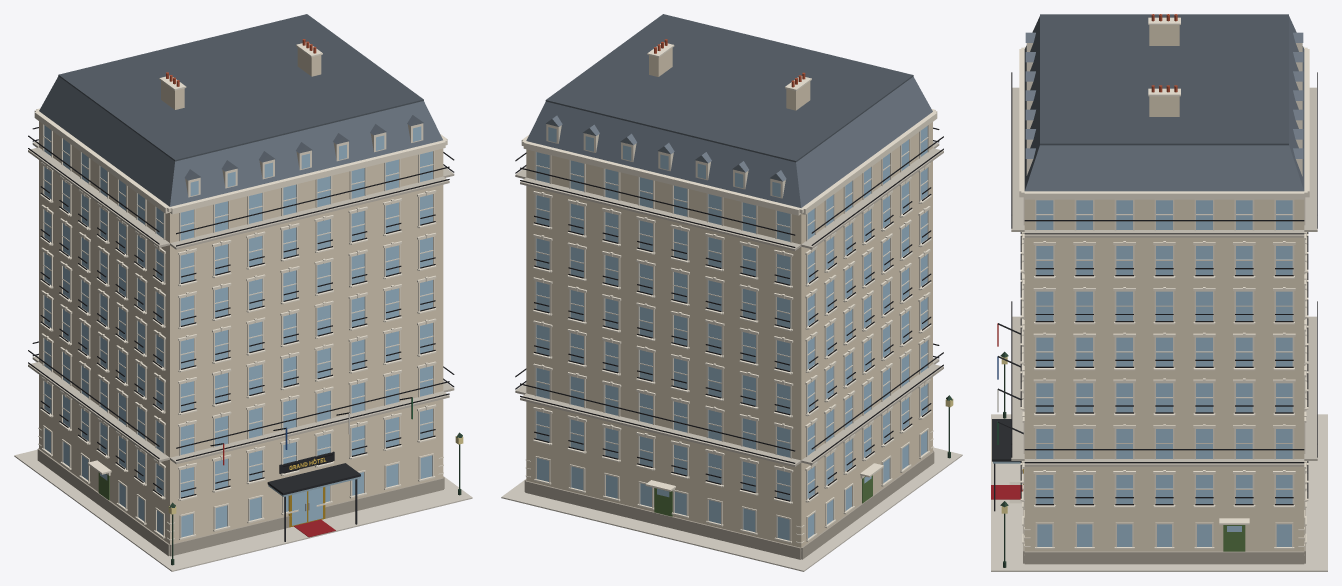
File: Simge_grand_otel_Hafif.fbx
3 views of the same model, side by side, from view 1: azimuth 30°, elevation 25°; view 2: azimuth 150°, elevation 25°; view 3: azimuth 270°, elevation 25° (orthographic). The views are drawn at different scales.
Parts seen in each view (by area): view 1: Simge_grand_otel_Hafif; view 2: Simge_grand_otel_Hafif; view 3: Simge_grand_otel_Hafif.
Boxes of the visible parts, <box> form: Simge_grand_otel_Hafif: <box>14,14,472,571</box>; Simge_grand_otel_Hafif: <box>501,14,962,571</box>; Simge_grand_otel_Hafif: <box>991,14,1327,571</box>.
Size of the model in its own units: 22 by 29.1 by 20.
